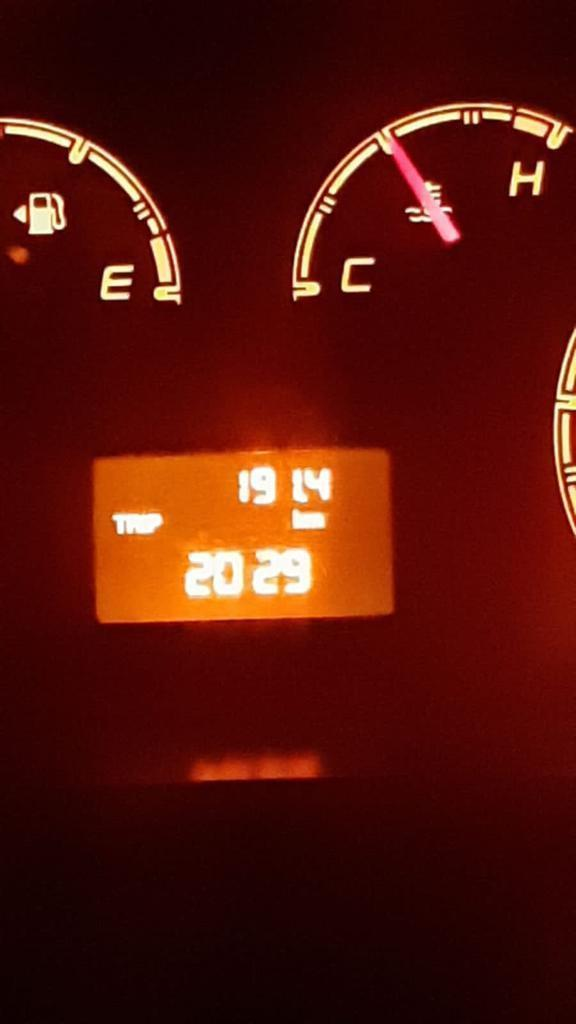,: (301, 493, 309, 503)
0: (213, 550, 246, 597)
1: (237, 468, 249, 503), (291, 467, 302, 501)
2: (182, 549, 213, 597), (252, 547, 281, 595)
4: (303, 466, 333, 502)
9: (282, 547, 313, 596), (250, 466, 277, 504)
X: (306, 510, 326, 530), (291, 507, 306, 531), (110, 512, 125, 536), (149, 511, 164, 535), (126, 512, 141, 536), (142, 511, 148, 536)
odometer: (86, 443, 400, 628)
